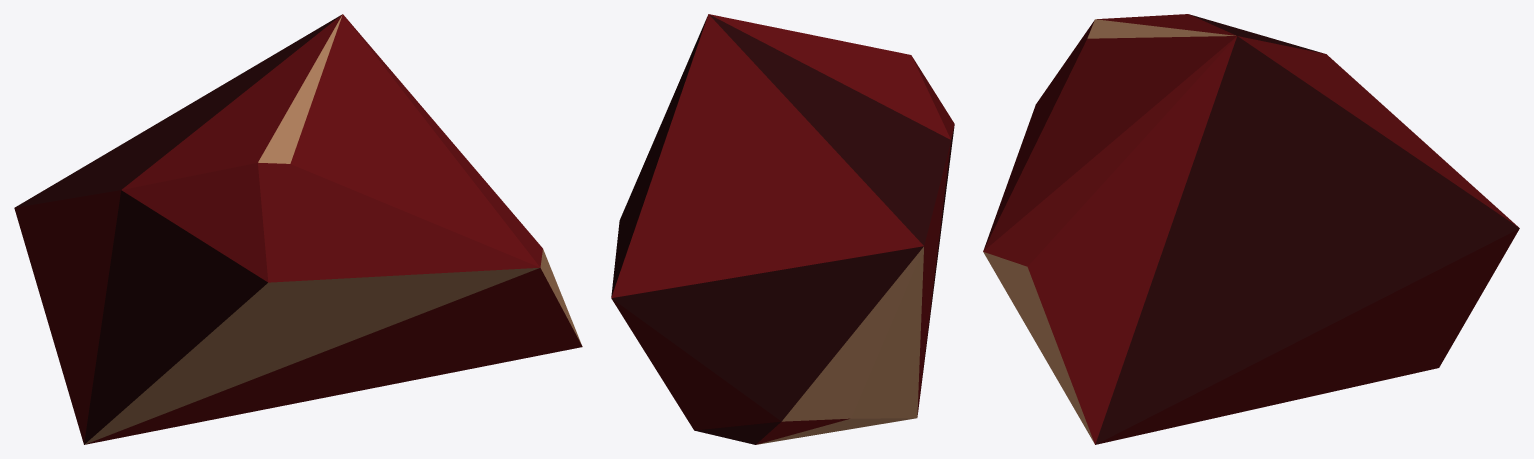
Rendered from gib_01.glb.
3 views of the same model, side by side, from view 1: azimuth 30°, elevation 25°; view 2: azimuth 150°, elevation 25°; view 3: azimuth 270°, elevation 25° (orthographic). The views are drawn at different scales.
Visible parts, largest first — view 1: gib_01; view 2: gib_01; view 3: gib_01.
Boxes of the visible parts, x1,y1,x2,y2 form: gib_01: [14, 14, 582, 444]; gib_01: [611, 14, 954, 444]; gib_01: [983, 14, 1519, 444].
Bounding box in the file's own units: 0.1357 × 0.1102 × 0.1378.
